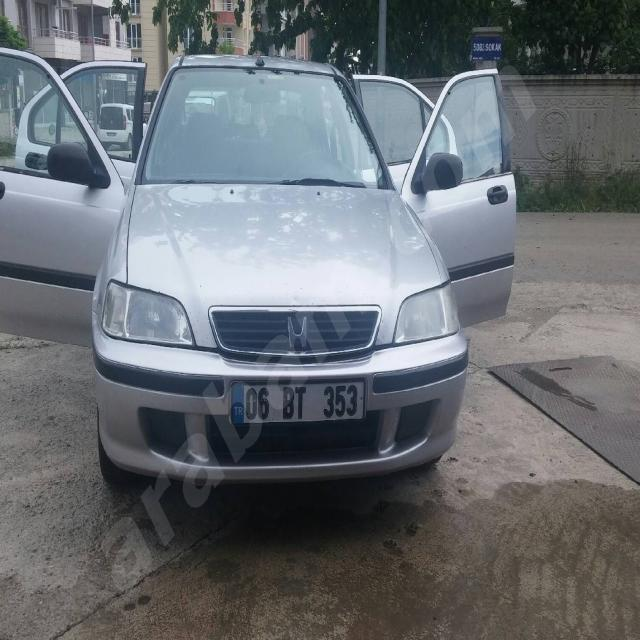license_plate: (230, 380, 365, 422)
